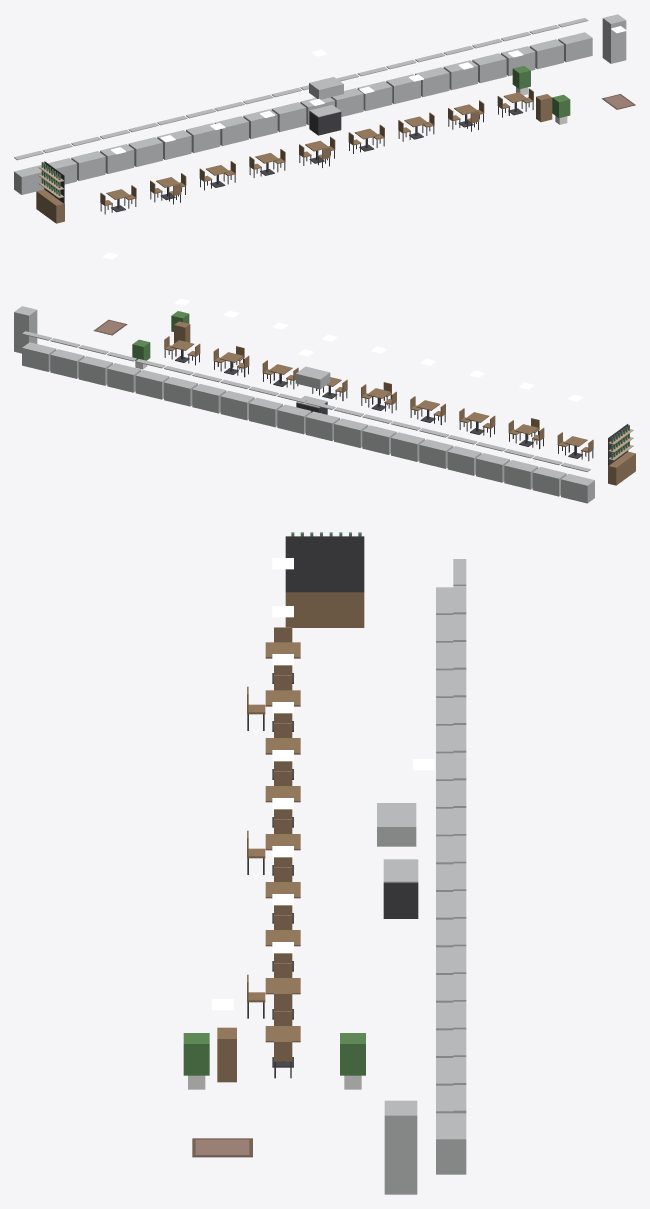
Rendered from fine-s0.glb.
The picture shows the model from 3 angles, top to bottom: view 1: azimuth 30°, elevation 25°; view 2: azimuth 150°, elevation 25°; view 3: azimuth 270°, elevation 25°; orthographic projection. The views are drawn at different scales.
Visible parts, largest first — view 1: range.000, back-bar.000, fridge.000, kitchen-counter.009, kitchen-counter.016, kitchen-counter.019, kitchen-counter.018, kitchen-counter.002, kitchen-counter.004, kitchen-counter.006, kitchen-counter.014, kitchen-counter.007 (+15 smaller); view 2: back-bar.000, kitchen-counter.000, range.000, kitchen-counter.017, fridge.000, kitchen-counter.005, kitchen-counter.008, kitchen-counter.001, kitchen-counter.002, kitchen-counter.004, kitchen-counter.015, kitchen-counter.018 (+12 smaller); view 3: back-bar.000, range.000, fridge.000, kitchen-counter.019, plant-medium.000, plant-medium.001, soft-s0, host-stand.000, kitchen-counter.018, kitchen-counter.002, kitchen-counter.005, kitchen-counter.008 (+13 smaller).
Part boxes in pixels (x1=…): range.000: x1=309, y1=77, x2=343, y2=135; back-bar.000: x1=36, y1=161, x2=64, y2=223; fridge.000: x1=602, y1=14, x2=626, y2=63; kitchen-counter.009: x1=271, y1=87, x2=306, y2=132; kitchen-counter.016: x1=472, y1=39, x2=506, y2=83; kitchen-counter.019: x1=558, y1=18, x2=592, y2=62; kitchen-counter.018: x1=529, y1=25, x2=563, y2=69; kitchen-counter.002: x1=71, y1=136, x2=105, y2=180; kitchen-counter.004: x1=128, y1=122, x2=162, y2=166; kitchen-counter.006: x1=186, y1=108, x2=220, y2=152; kitchen-counter.014: x1=415, y1=52, x2=449, y2=96; kitchen-counter.007: x1=214, y1=102, x2=248, y2=146; back-bar.000: x1=608, y1=424, x2=635, y2=485; kitchen-counter.000: x1=561, y1=462, x2=594, y2=503; range.000: x1=295, y1=366, x2=330, y2=414; kitchen-counter.017: x1=78, y1=345, x2=112, y2=385; fridge.000: x1=14, y1=306, x2=37, y2=353; kitchen-counter.005: x1=419, y1=428, x2=453, y2=468; kitchen-counter.008: x1=334, y1=407, x2=368, y2=447; kitchen-counter.001: x1=532, y1=456, x2=566, y2=496; kitchen-counter.002: x1=504, y1=449, x2=538, y2=489; kitchen-counter.004: x1=447, y1=435, x2=481, y2=475; kitchen-counter.015: x1=135, y1=359, x2=169, y2=399; kitchen-counter.018: x1=50, y1=338, x2=84, y2=378; back-bar.000: x1=285, y1=532, x2=364, y2=627; range.000: x1=377, y1=803, x2=418, y2=918; fridge.000: x1=384, y1=1100, x2=417, y2=1194; kitchen-counter.019: x1=436, y1=1085, x2=466, y2=1174; plant-medium.000: x1=183, y1=1033, x2=209, y2=1089; plant-medium.001: x1=340, y1=1033, x2=365, y2=1089; soft-s0: x1=192, y1=1138, x2=252, y2=1157; host-stand.000: x1=217, y1=1027, x2=236, y2=1082; kitchen-counter.018: x1=436, y1=1057, x2=466, y2=1113; kitchen-counter.002: x1=436, y1=614, x2=466, y2=670; kitchen-counter.005: x1=436, y1=697, x2=466, y2=753; kitchen-counter.008: x1=436, y1=780, x2=466, y2=836.
Size of the model in its own units: 31.15 by 3.65 by 6.48.
